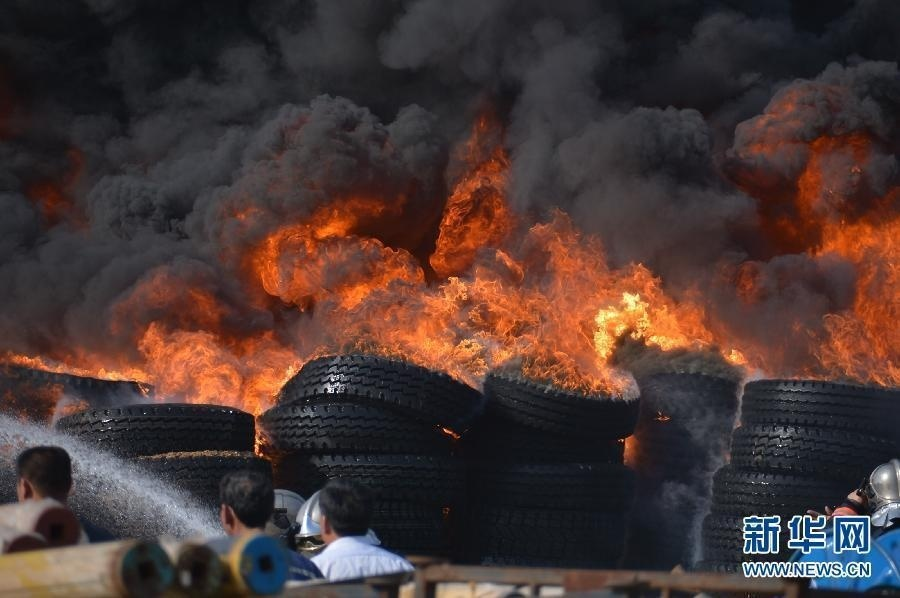fire: (18, 124, 838, 509)
